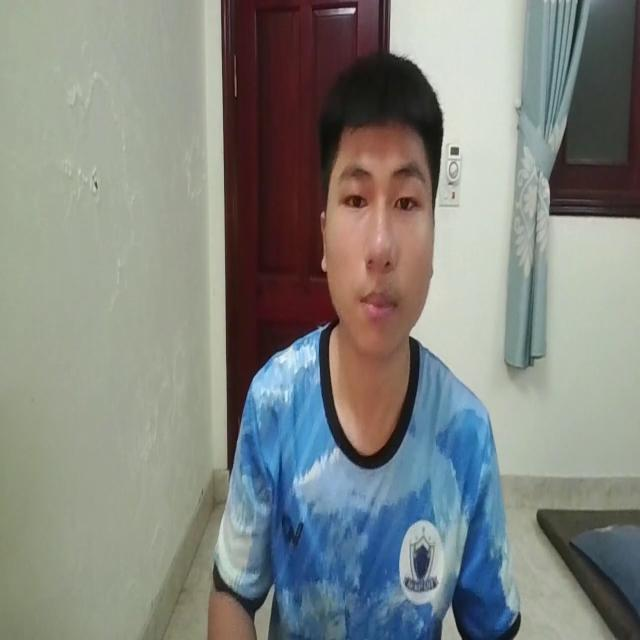student: (191, 50, 522, 640)
